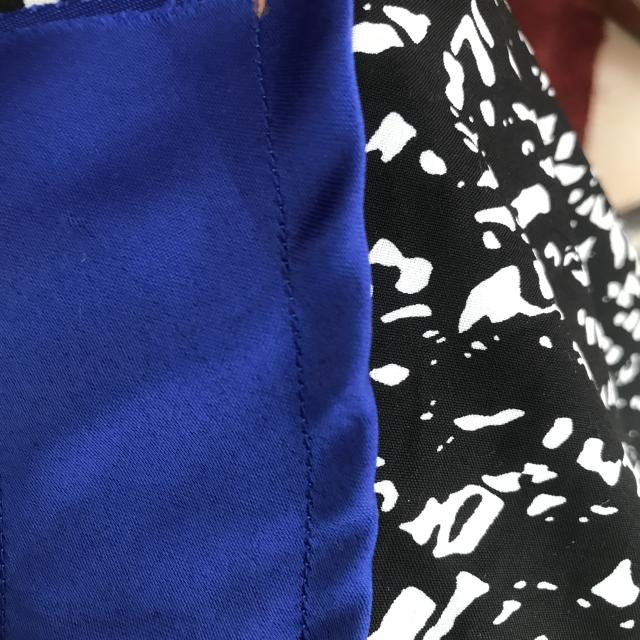good: (247, 62, 301, 201), (292, 460, 332, 607)
